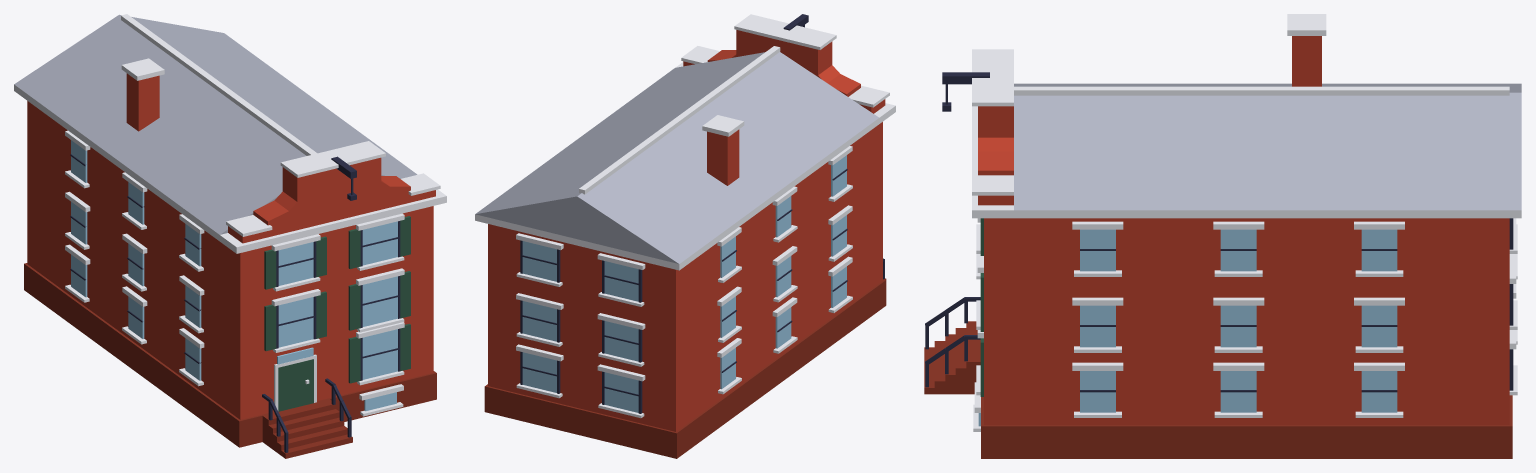
Rendered from house-1x2-3f-dutch-a.glb.
3 views of the same model, side by side, from view 1: azimuth 30°, elevation 25°; view 2: azimuth 150°, elevation 25°; view 3: azimuth 270°, elevation 25° (orthographic). The views are drawn at different scales.
Parts seen in each view (by area): view 1: house-1x2-3f-dutch-a; view 2: house-1x2-3f-dutch-a; view 3: house-1x2-3f-dutch-a.
Part boxes in pixels (box(x1,y1,x2,y2)): house-1x2-3f-dutch-a: box(14, 14, 446, 458); house-1x2-3f-dutch-a: box(475, 14, 895, 458); house-1x2-3f-dutch-a: box(924, 14, 1521, 458).
Size of the model in its own units: 1 by 1.25 by 2.
Materials: 1 (1 with a texture image).
